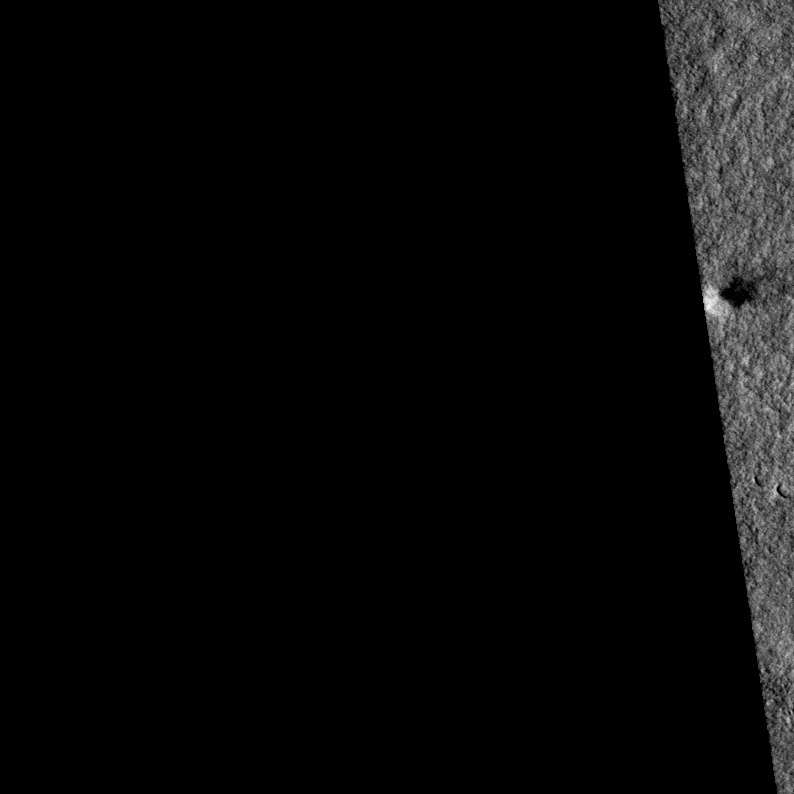dust_devil: (700, 269, 787, 319)
